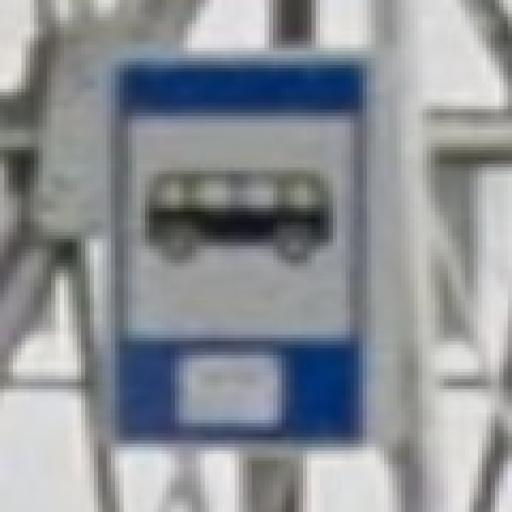traffic_sign: (104, 49, 377, 458)
